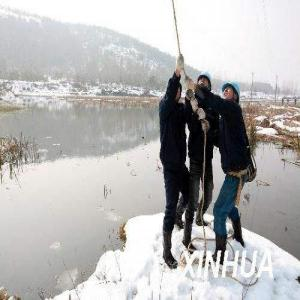blue: (222, 79, 241, 108), (197, 72, 213, 98)
